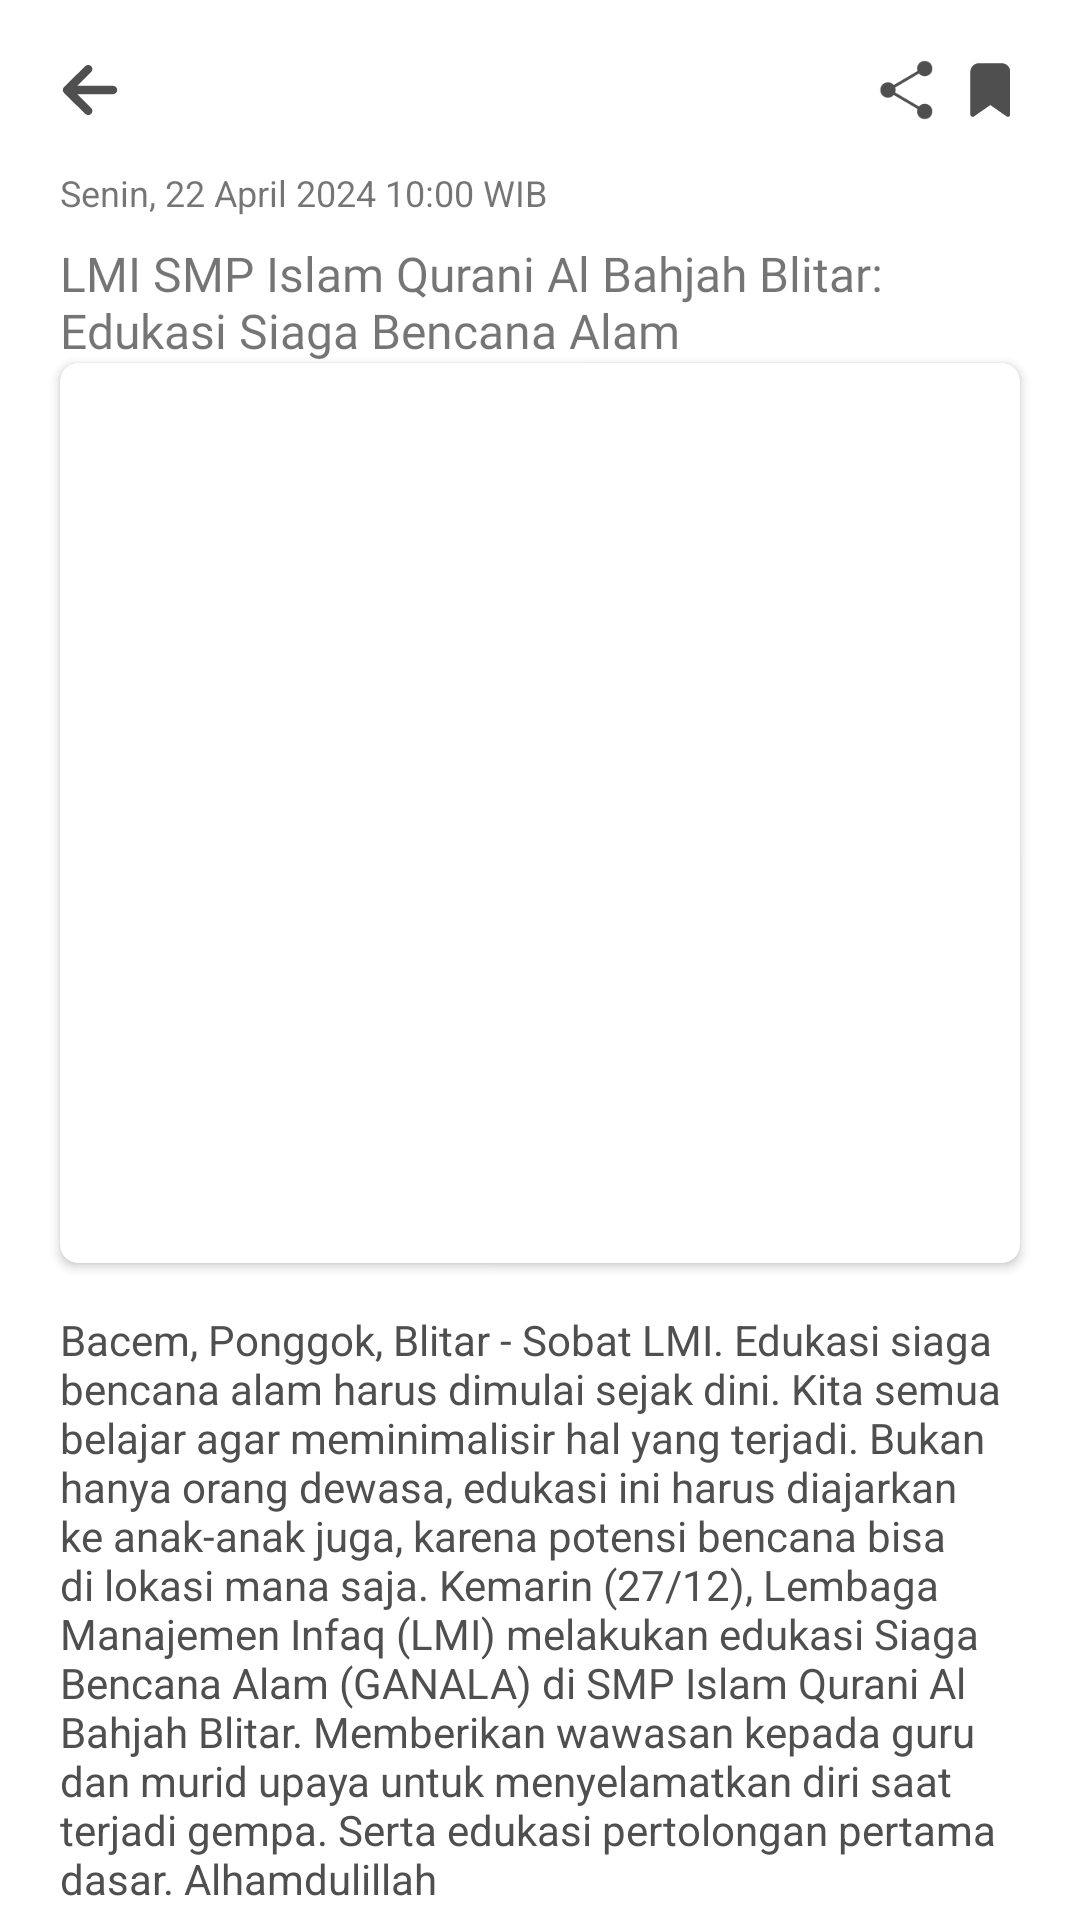

Icons on this 1080px×1920px Android screen, each with the point to tap as point (x, y):
arrowback: point (90, 90)
saved: point (990, 90)
share: point (906, 90)
